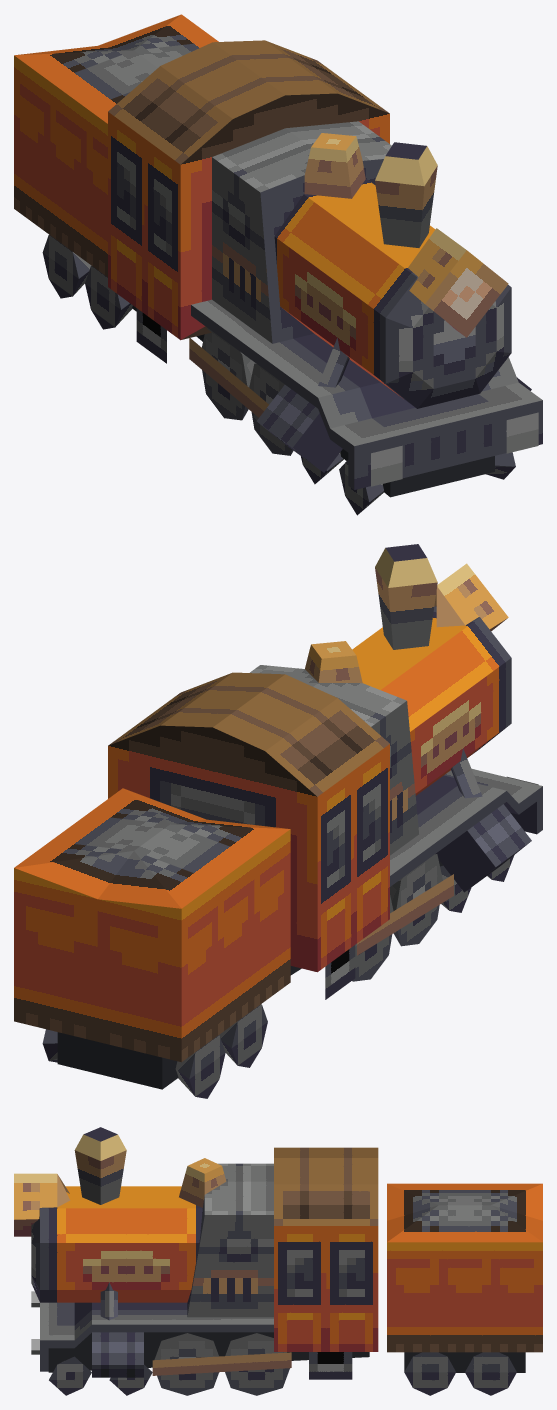
The model's file is train.fbx.
The picture shows the model from 3 angles, top to bottom: view 1: azimuth 30°, elevation 25°; view 2: azimuth 150°, elevation 25°; view 3: azimuth 270°, elevation 25°; orthographic projection. The views are drawn at different scales.
Visible parts, largest first — view 1: Train; view 2: Train; view 3: Train.
Part boxes in pixels (x1,y1,x2,y2): Train: (14, 14, 542, 515); Train: (14, 544, 542, 1098); Train: (14, 1127, 542, 1395).
Bounding box in the file's own units: 71.37 × 93.75 × 191.
1 material, 1 textured.
